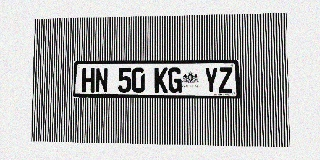0: (132, 67, 145, 93)
5: (118, 68, 131, 93)
G: (168, 67, 182, 93)
H: (82, 68, 95, 92)
K: (154, 67, 168, 93)
N: (95, 68, 108, 93)
Y: (204, 67, 218, 93)
Z: (218, 67, 233, 93)
